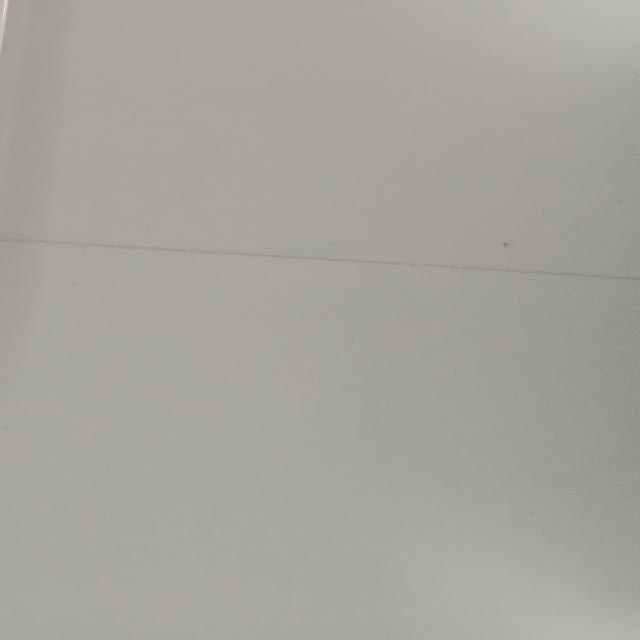fluorescent tube: (0, 0, 126, 445)
